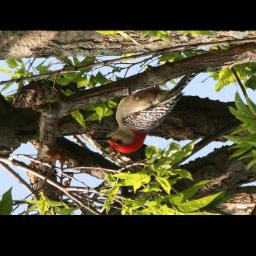Woodpecker: (89, 69, 205, 156)
